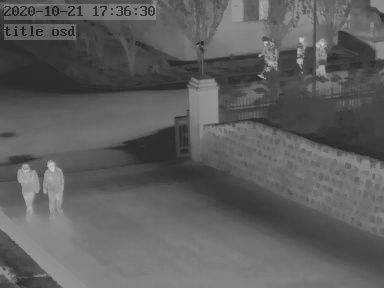person: (44, 159, 66, 216), (18, 162, 38, 219), (315, 38, 328, 75), (265, 37, 279, 71), (294, 36, 307, 71)
